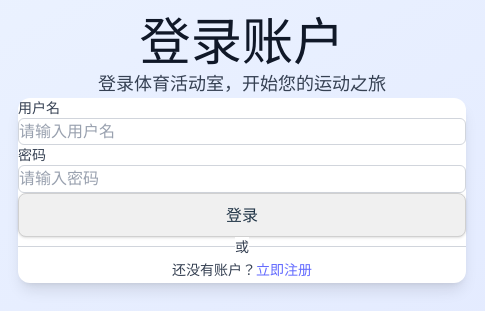
LoginPage › should show loading state during login
Step 1. Type "testuser" into the field labelled "用户名" → coordinates (242, 132), box [18, 118, 466, 145]
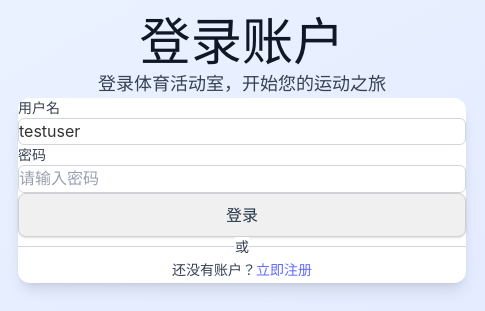
Step 2. Type "password123" into the password field labelled "密码" → coordinates (242, 179), box [18, 165, 466, 193]
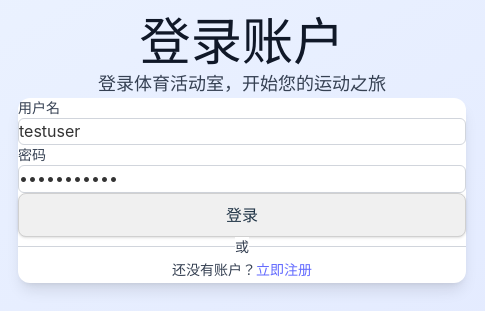
Step 3. Click the button "登录" → coordinates (242, 215), box [18, 193, 466, 237]
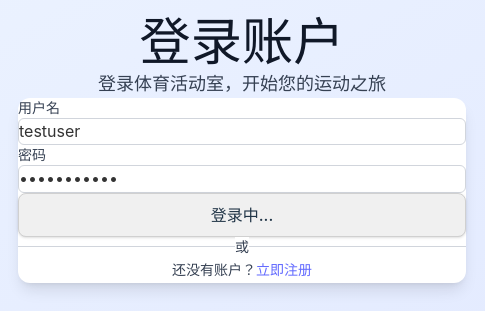
Now the button "登录中..." is disabled, box [18, 193, 466, 237]
